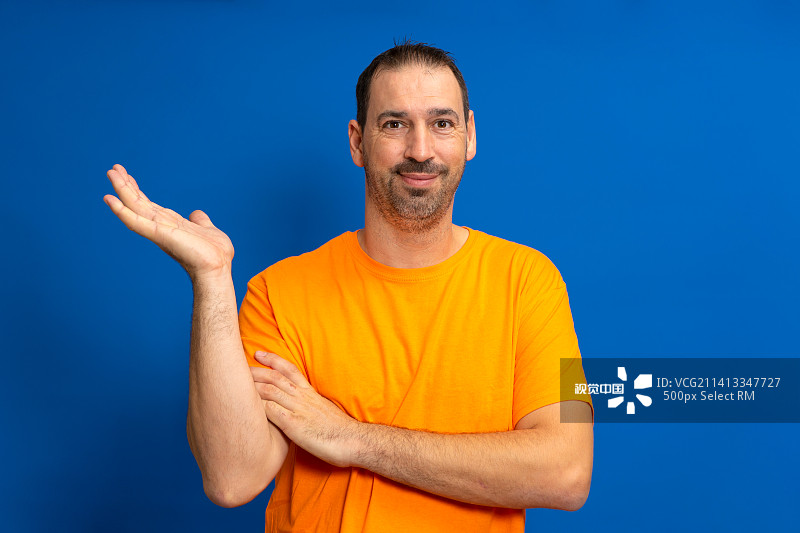no-phone: (88, 144, 263, 281), (238, 331, 381, 482)
